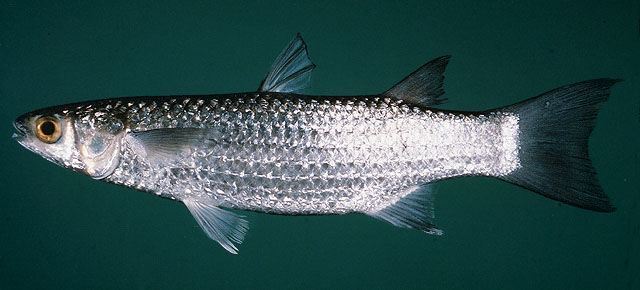fish: (10, 31, 620, 256)
